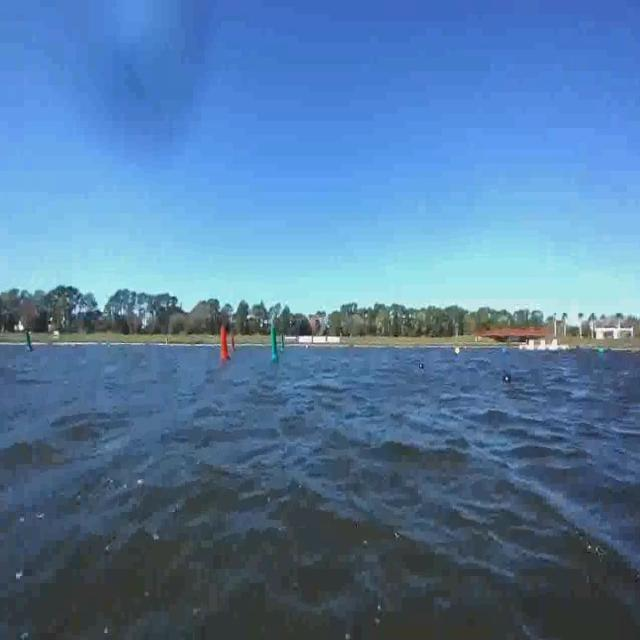black-buoy: (502, 373, 512, 385), (420, 360, 425, 369)
green-column-buoy: (270, 326, 281, 362), (26, 332, 36, 354)
red-column-buoy: (220, 328, 230, 361), (232, 334, 238, 353)
yellow-buoy: (455, 346, 461, 357)
